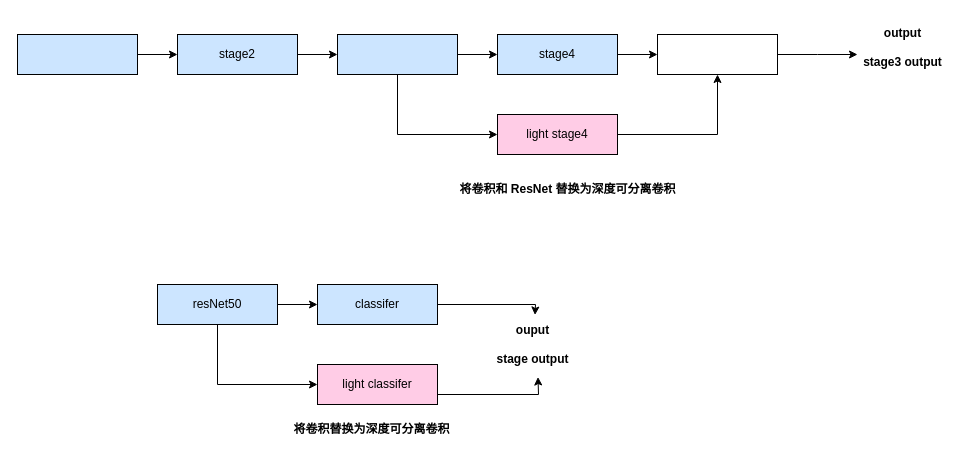
Image size: 970x461. Some labels were removed from this diagram. Here are the shapes that lost their labels. From the top down, the centre of each, then its label:
(77,54): stage1
(397,54): stage3
(717,54): avgpool + FN
